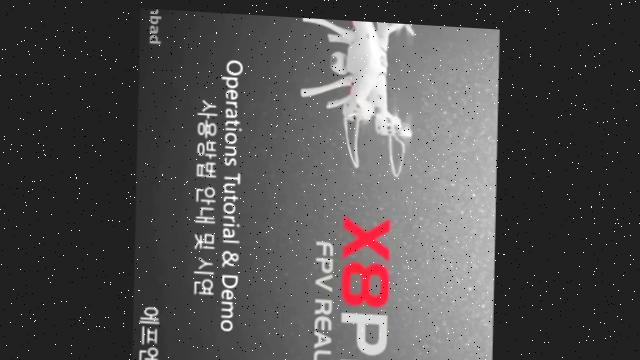drone: (294, 14, 418, 178)
